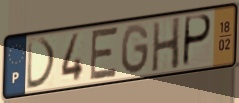4: (59, 31, 86, 84)
D: (25, 36, 58, 92)
E: (88, 25, 120, 83)
G: (120, 22, 151, 77)
H: (150, 15, 183, 74)
P: (180, 13, 213, 69)
